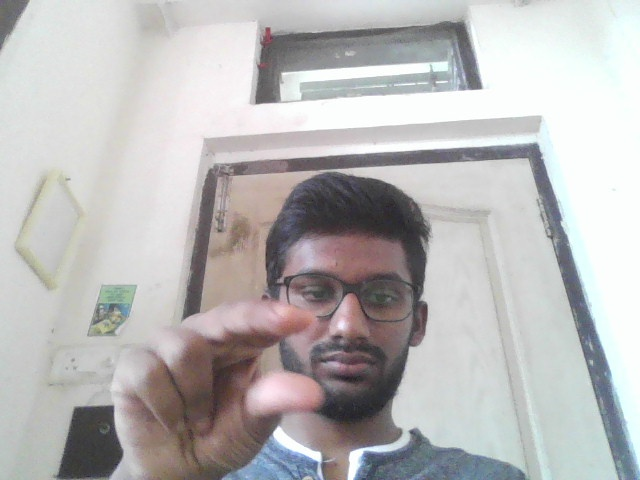No: (83, 293, 330, 480)
